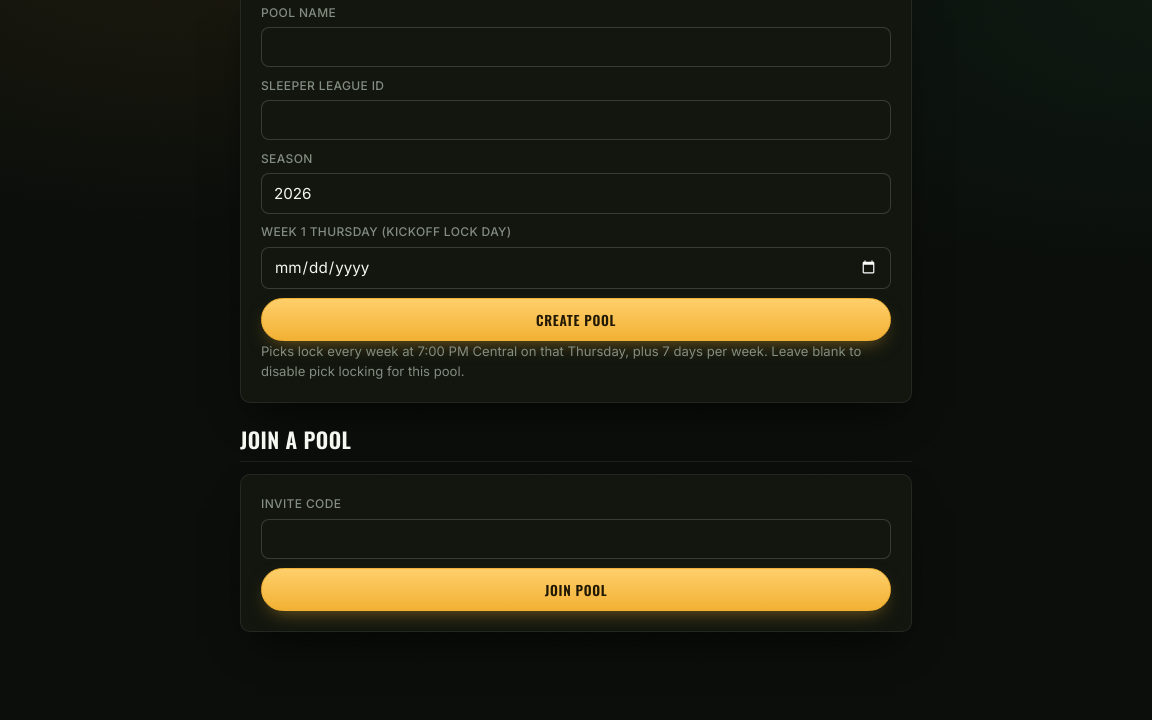
Pools › shows an error when the invite code does not match a pool
This screenshot has width=1152, height=720.
(page scrolled)
In the field labelled "Invite code": (576, 539) 261,519 -> 891,559, type "bogus"
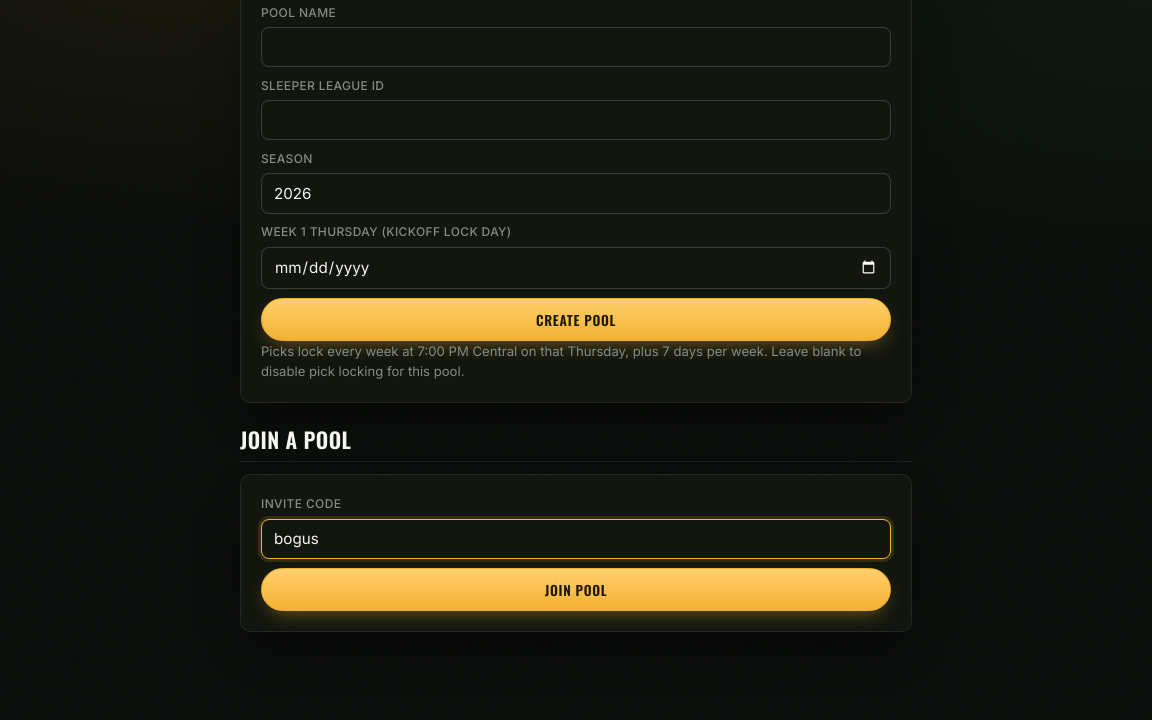
Click the button "Join pool": (576, 590) 261,568 -> 891,611
(page scrolled)
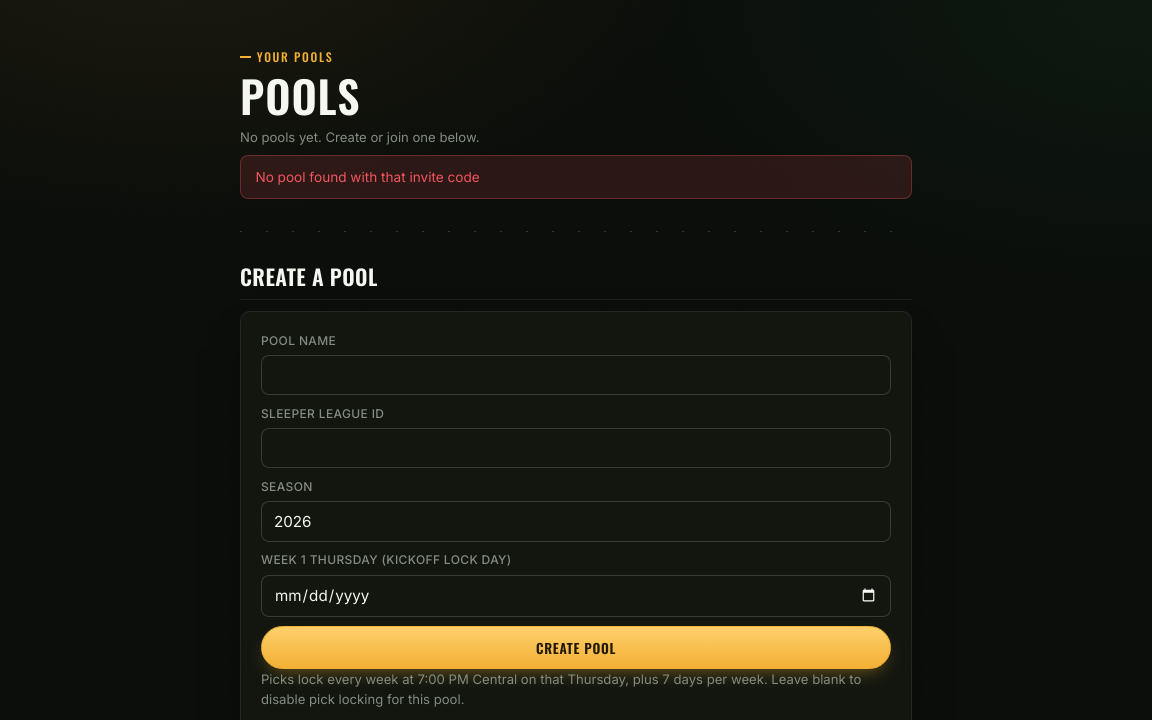
Expected: the text "No pool found with that invite code" is shown, 240,155 -> 912,199
